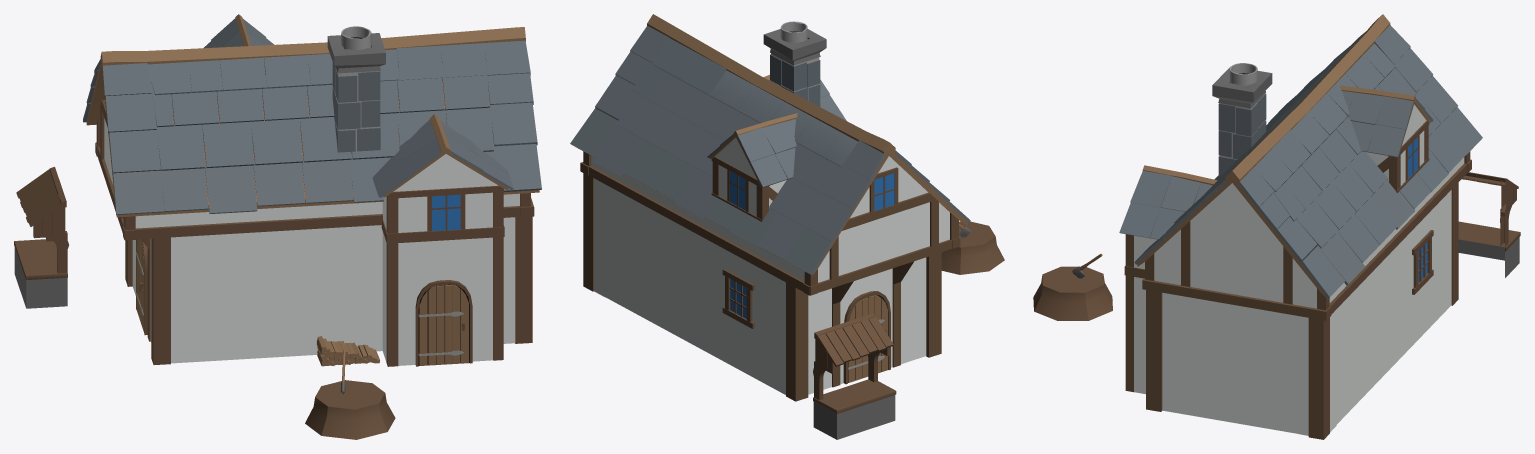
Rendered from House12.fbx.
3 renders of one model, left to right at view 1: azimuth 30°, elevation 25°; view 2: azimuth 150°, elevation 25°; view 3: azimuth 270°, elevation 25°, orthographic. The views are drawn at different scales.
Parts seen in each view (by area): view 1: polySurface1675, polySurface1085, polySurface1684, pCube18, polySurface1048, polySurface896, pCube15, polySurface1016, pCube17, polySurface1050, polySurface1002, polySurface1087 (+53 smaller); view 2: polySurface1675, polySurface1684, polySurface895, pCube14, pCube18, pCube15, polySurface910, polySurface897, polySurface1009, polySurface1115, polySurface996, polySurface995 (+42 smaller); view 3: polySurface1675, pCube18, polySurface1684, pCube16, polySurface898, pCube17, polySurface895, polySurface1085, polySurface1115, polySurface1086, polySurface1009, polySurface1010 (+44 smaller).
Boxes of the visible parts, x1,y1,x2,y2 form: polySurface1675: [86, 27, 539, 363]; polySurface1085: [382, 150, 508, 365]; polySurface1684: [14, 166, 68, 308]; pCube18: [305, 380, 395, 439]; polySurface1048: [251, 116, 351, 165]; polySurface896: [123, 205, 531, 239]; pCube15: [151, 237, 170, 364]; polySurface1016: [205, 163, 257, 213]; pCube17: [515, 216, 532, 343]; polySurface1050: [202, 121, 254, 167]; polySurface1002: [113, 170, 164, 215]; polySurface1087: [386, 196, 398, 366]; polySurface1675: [578, 14, 967, 394]; polySurface1684: [813, 313, 896, 439]; polySurface895: [583, 163, 817, 295]; pCube14: [786, 282, 808, 401]; pCube18: [941, 221, 1004, 274]; pCube15: [926, 252, 941, 357]; polySurface910: [710, 133, 786, 215]; polySurface897: [803, 237, 960, 295]; polySurface1009: [593, 122, 642, 176]; polySurface1115: [763, 29, 826, 100]; polySurface996: [804, 194, 855, 242]; polySurface995: [784, 227, 832, 275]; polySurface1675: [1137, 14, 1464, 435]; pCube18: [1033, 266, 1112, 320]; polySurface1684: [1458, 172, 1520, 277]; pCube16: [1308, 317, 1329, 439]; polySurface898: [1142, 278, 1331, 320]; pCube17: [1146, 290, 1162, 411]; polySurface895: [1318, 159, 1471, 314]; polySurface1085: [1134, 235, 1156, 394]; polySurface1115: [1212, 66, 1272, 159]; polySurface1086: [1125, 234, 1133, 392]; polySurface1009: [1317, 232, 1365, 285]; polySurface1010: [1301, 246, 1345, 298].
Bounding box in the file's own units: 169 × 116 × 179.
